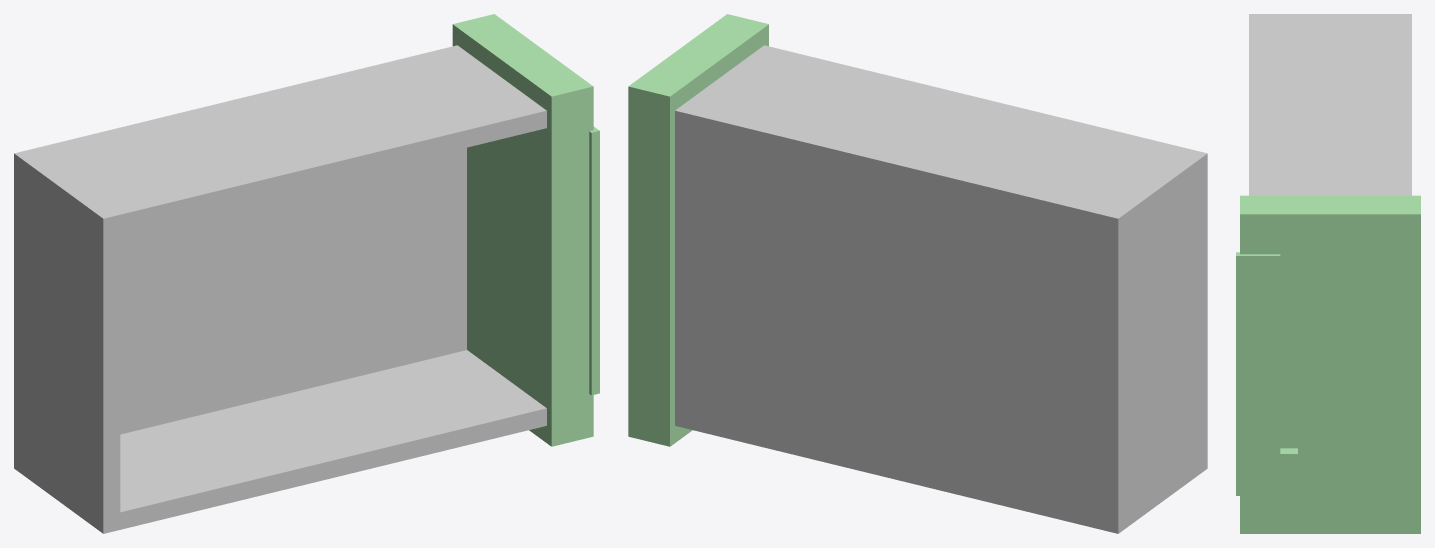
The model's file is ROOM73B2-TOSHIBA-CLACIO-REFRIGERATOR-BODYSET5_link_mesh.dae.
3 renders of one model, left to right at view 1: azimuth 30°, elevation 25°; view 2: azimuth 150°, elevation 25°; view 3: azimuth 270°, elevation 25°, orthographic. The views are drawn at different scales.
Visible parts, largest first — view 1: ROOM73B2-TOSHIBA-CLACIO-REFRIGERATOR-BODYSET5_link (×2); view 2: ROOM73B2-TOSHIBA-CLACIO-REFRIGERATOR-BODYSET5_link (×2); view 3: ROOM73B2-TOSHIBA-CLACIO-REFRIGERATOR-BODYSET5_link (×2).
Boxes of the visible parts, x1,y1,x2,y2 form: ROOM73B2-TOSHIBA-CLACIO-REFRIGERATOR-BODYSET5_link (×2): (14,14,599,533); ROOM73B2-TOSHIBA-CLACIO-REFRIGERATOR-BODYSET5_link (×2): (628,14,1207,533); ROOM73B2-TOSHIBA-CLACIO-REFRIGERATOR-BODYSET5_link (×2): (1236,14,1420,533).
Bounding box in the file's own units: 0.585 × 0.4 × 0.2095.
